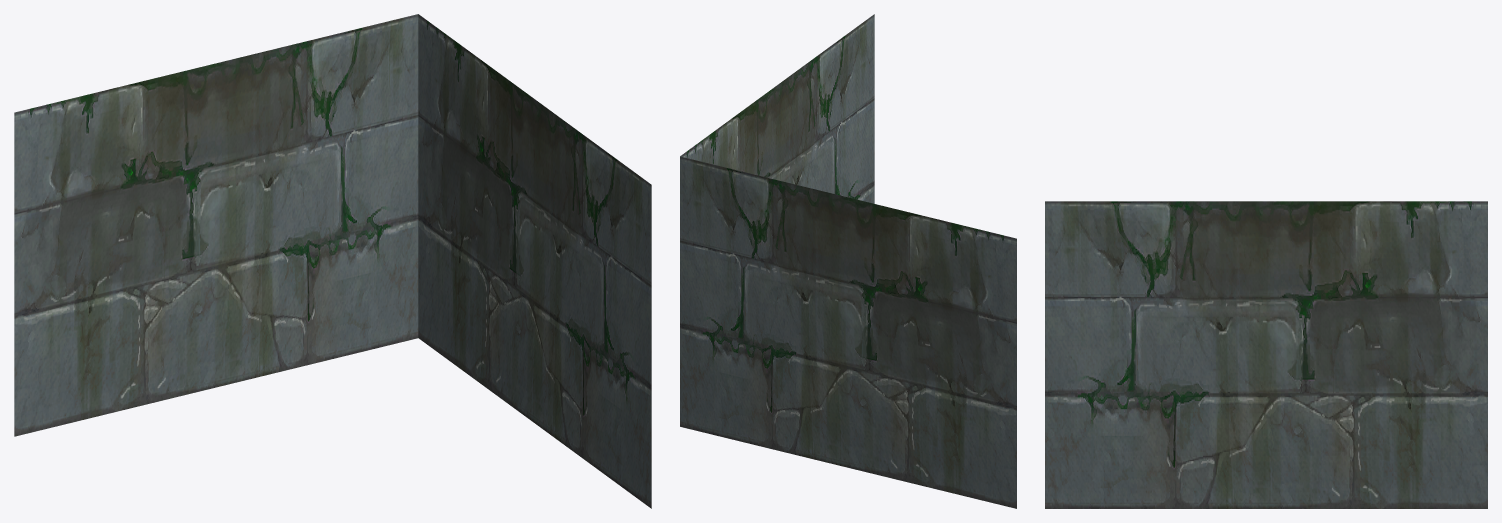
File: stemple_half_concave_02.fbx
The picture shows the model from 3 angles, left to right: view 1: azimuth 30°, elevation 25°; view 2: azimuth 150°, elevation 25°; view 3: azimuth 270°, elevation 25°; orthographic projection. The views are drawn at different scales.
Parts seen in each view (by area): view 1: obj0.203; view 2: obj0.203; view 3: obj0.203.
Part boxes in pixels (x1=…): obj0.203: x1=14, y1=14, x2=651, y2=508; obj0.203: x1=680, y1=14, x2=1016, y2=508; obj0.203: x1=1045, y1=201, x2=1487, y2=508.
Bounding box in the file's own units: 3.59 × 2.75 × 3.59.
